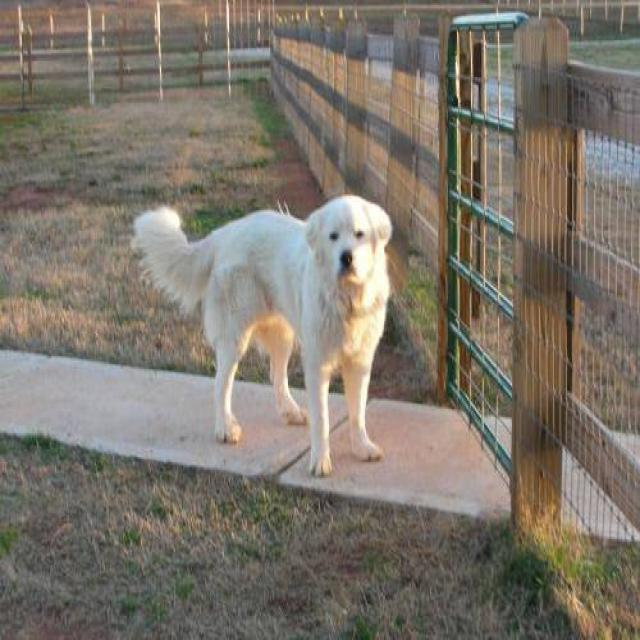dog: (131, 193, 393, 477)
